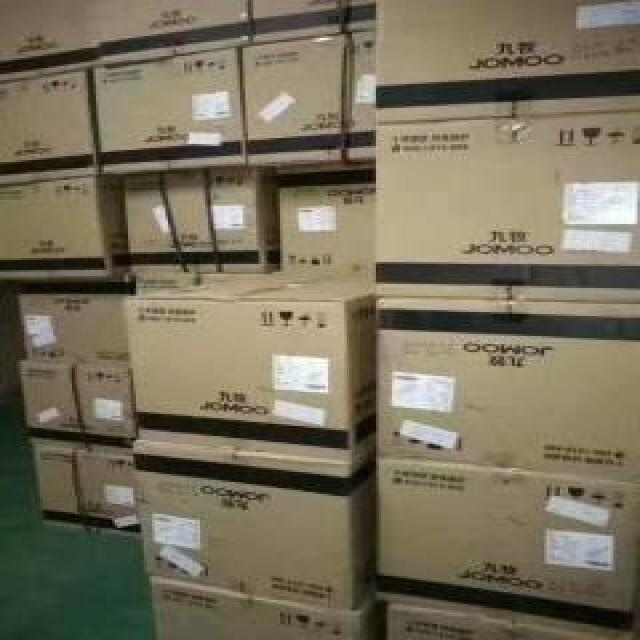box: (373, 112, 637, 302), (373, 296, 637, 482), (124, 273, 375, 463), (378, 460, 637, 638), (133, 442, 377, 609), (376, 1, 637, 124), (93, 47, 245, 174), (240, 28, 376, 167), (122, 168, 276, 274), (0, 173, 131, 282), (149, 579, 386, 638), (0, 71, 102, 188), (277, 164, 375, 278), (89, 0, 251, 66), (31, 440, 137, 537), (25, 358, 132, 451), (0, 2, 98, 80), (21, 294, 130, 364), (384, 609, 603, 638), (248, 0, 345, 45), (134, 273, 258, 298), (343, 1, 377, 33)
